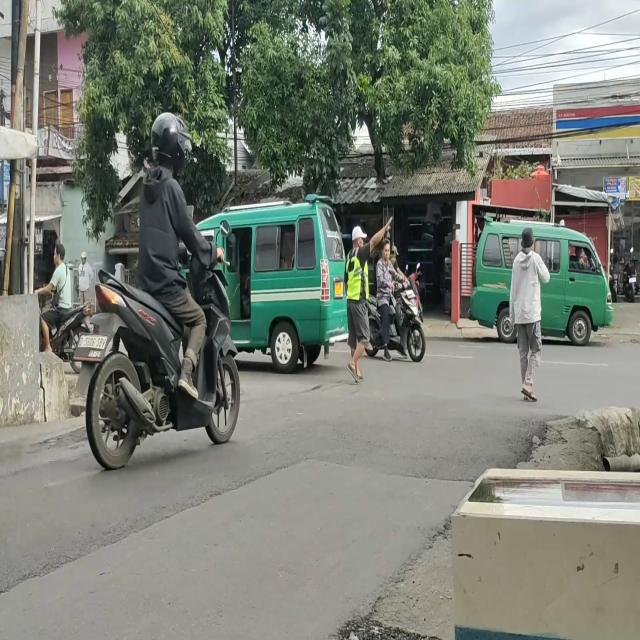helmet: (149, 114, 188, 171)
no-helmet: (50, 240, 67, 265), (380, 238, 392, 261)
